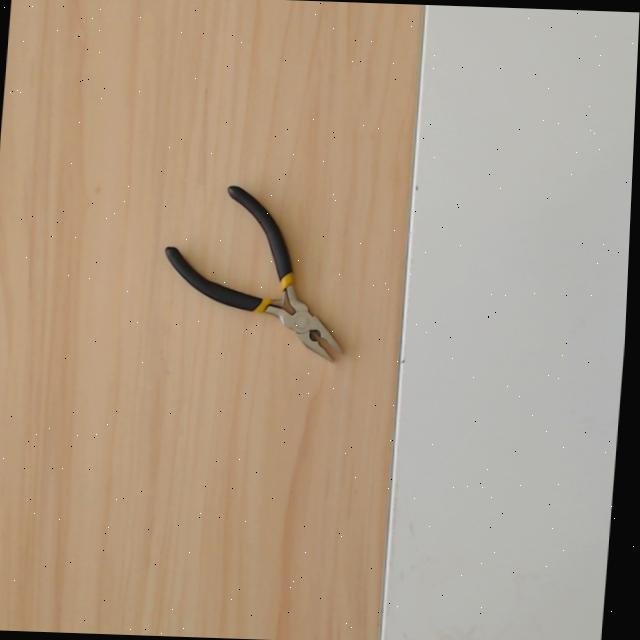Tang-Jepit-Hitam: (159, 177, 376, 394)
